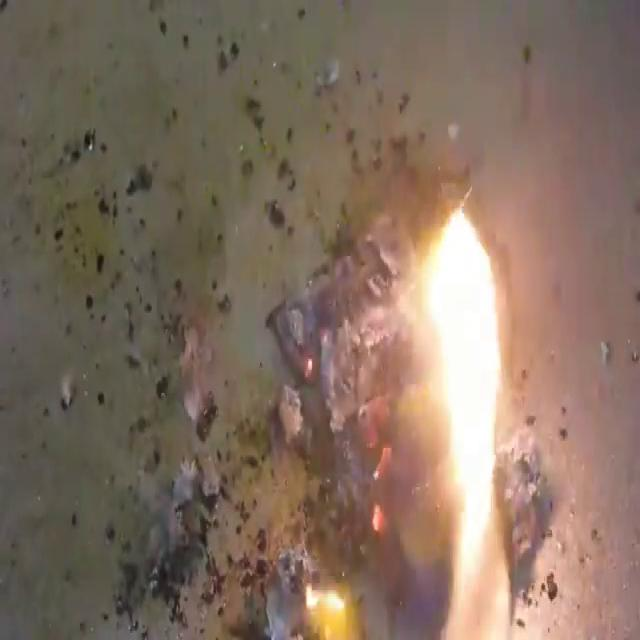Fire: (203, 140, 567, 640)
